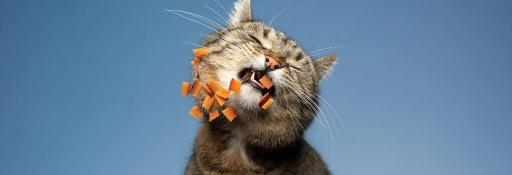cat_eating: (180, 0, 335, 174)
